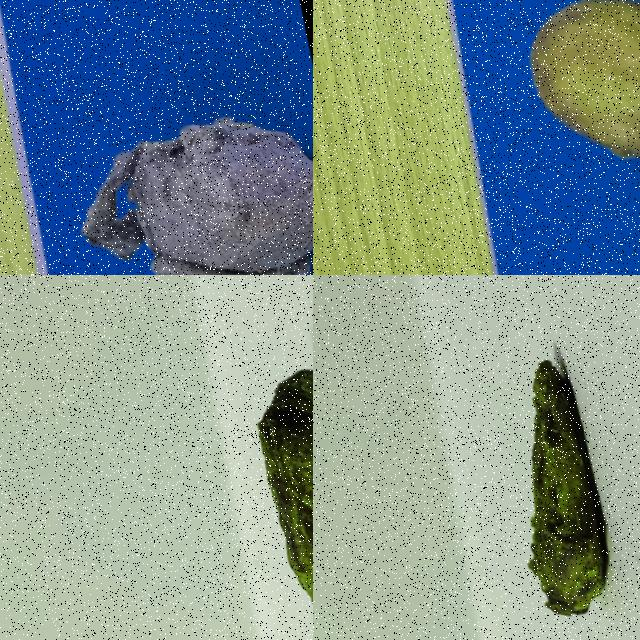Agglomerated_cocoabeans: (32, 39, 312, 274)
Fine_cocoabeans: (456, 0, 639, 241)
Flat_cocoabeans: (414, 278, 639, 639), (214, 311, 312, 639)
